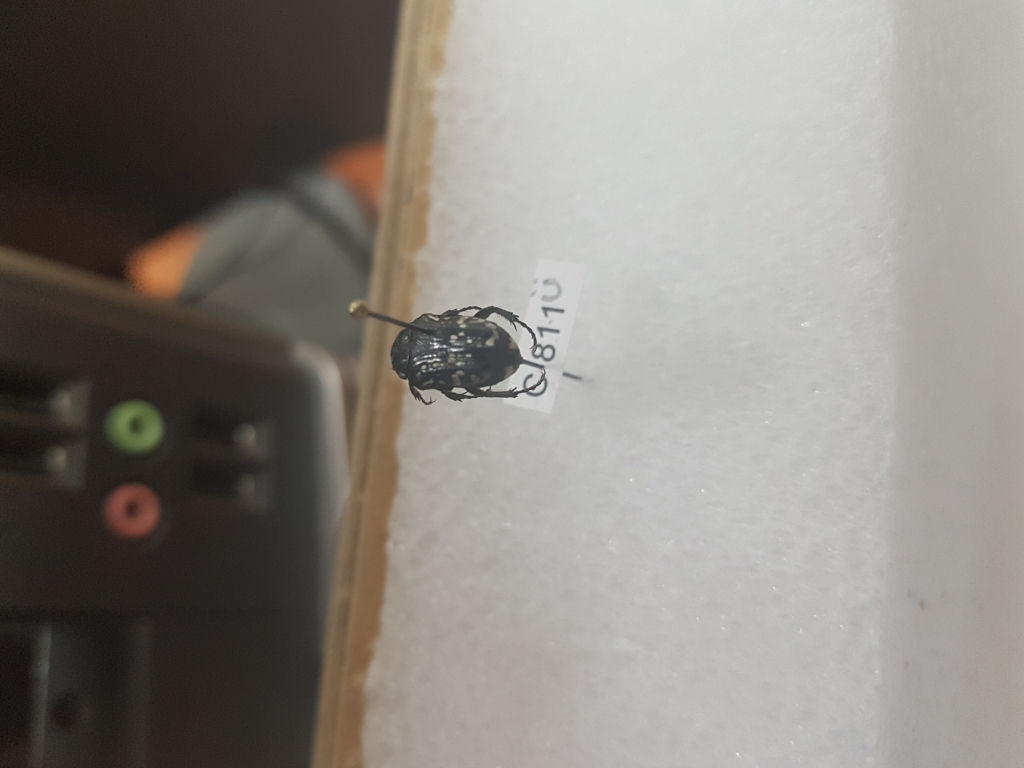Oxythyrea_albopicta: (389, 305, 547, 406)
